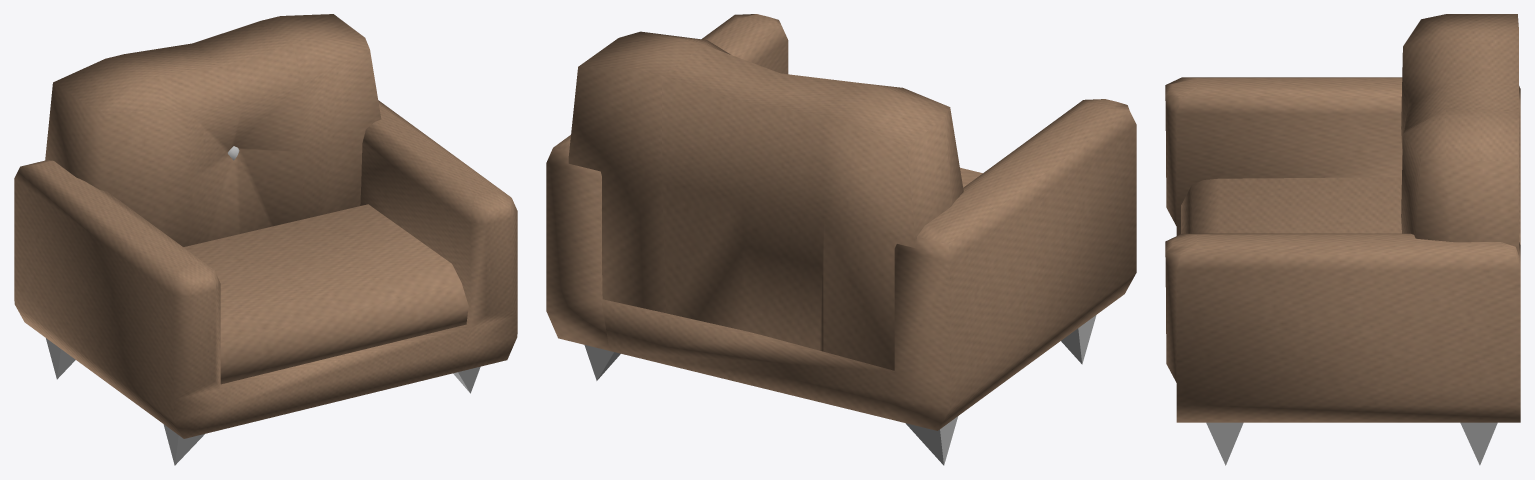
Rendered from Chair_J_2.FBX.
The picture shows the model from 3 angles, left to right: view 1: azimuth 30°, elevation 25°; view 2: azimuth 150°, elevation 25°; view 3: azimuth 270°, elevation 25°; orthographic projection. The views are drawn at different scales.
Visible parts, largest first — view 1: Chair; view 2: Chair; view 3: Chair.
Part boxes in pixels (left/top/right/bottom): Chair: left=14, top=14, right=517, bottom=465; Chair: left=546, top=14, right=1136, bottom=465; Chair: left=1165, top=14, right=1520, bottom=465.
Bounding box in the file's own units: 204 × 167 × 169.
